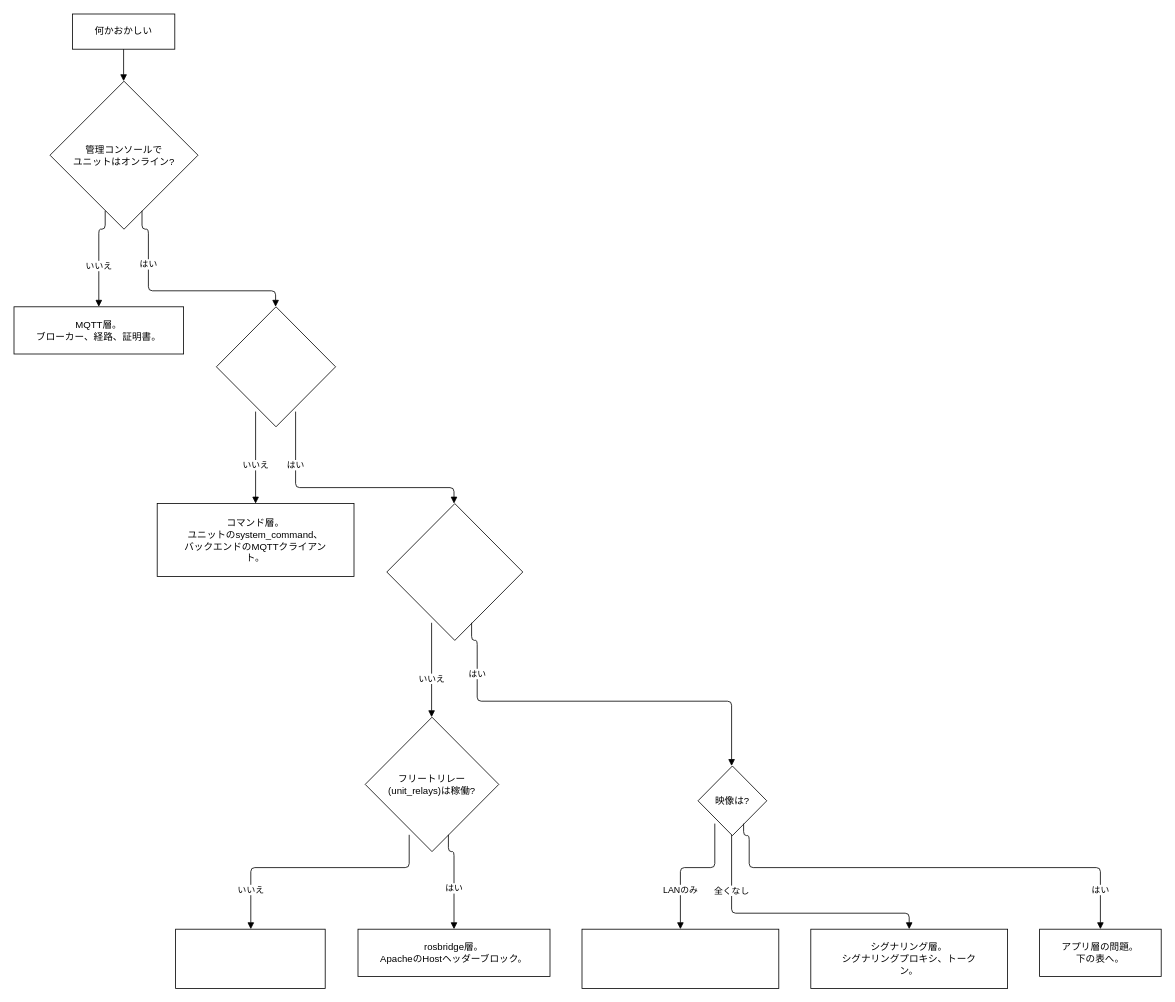
Image size: 1175x1002. Some labels were removed from this diagram. Each missing label, with the box of its shape:
TURNリレー。 TURN_EXTERNAL_IP、ルータ ー。: (581, 928, 779, 988)
コマンドは効く? (E-Stop、手動): (216, 306, 336, 427)
フリートリレー。 unit_relaysかレガシーの ユニット単位コンテナ。: (175, 928, 325, 988)
地図キャンバスは表示?: (386, 503, 523, 640)
